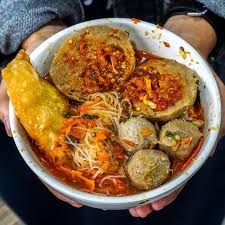bakso: (18, 30, 190, 197)
